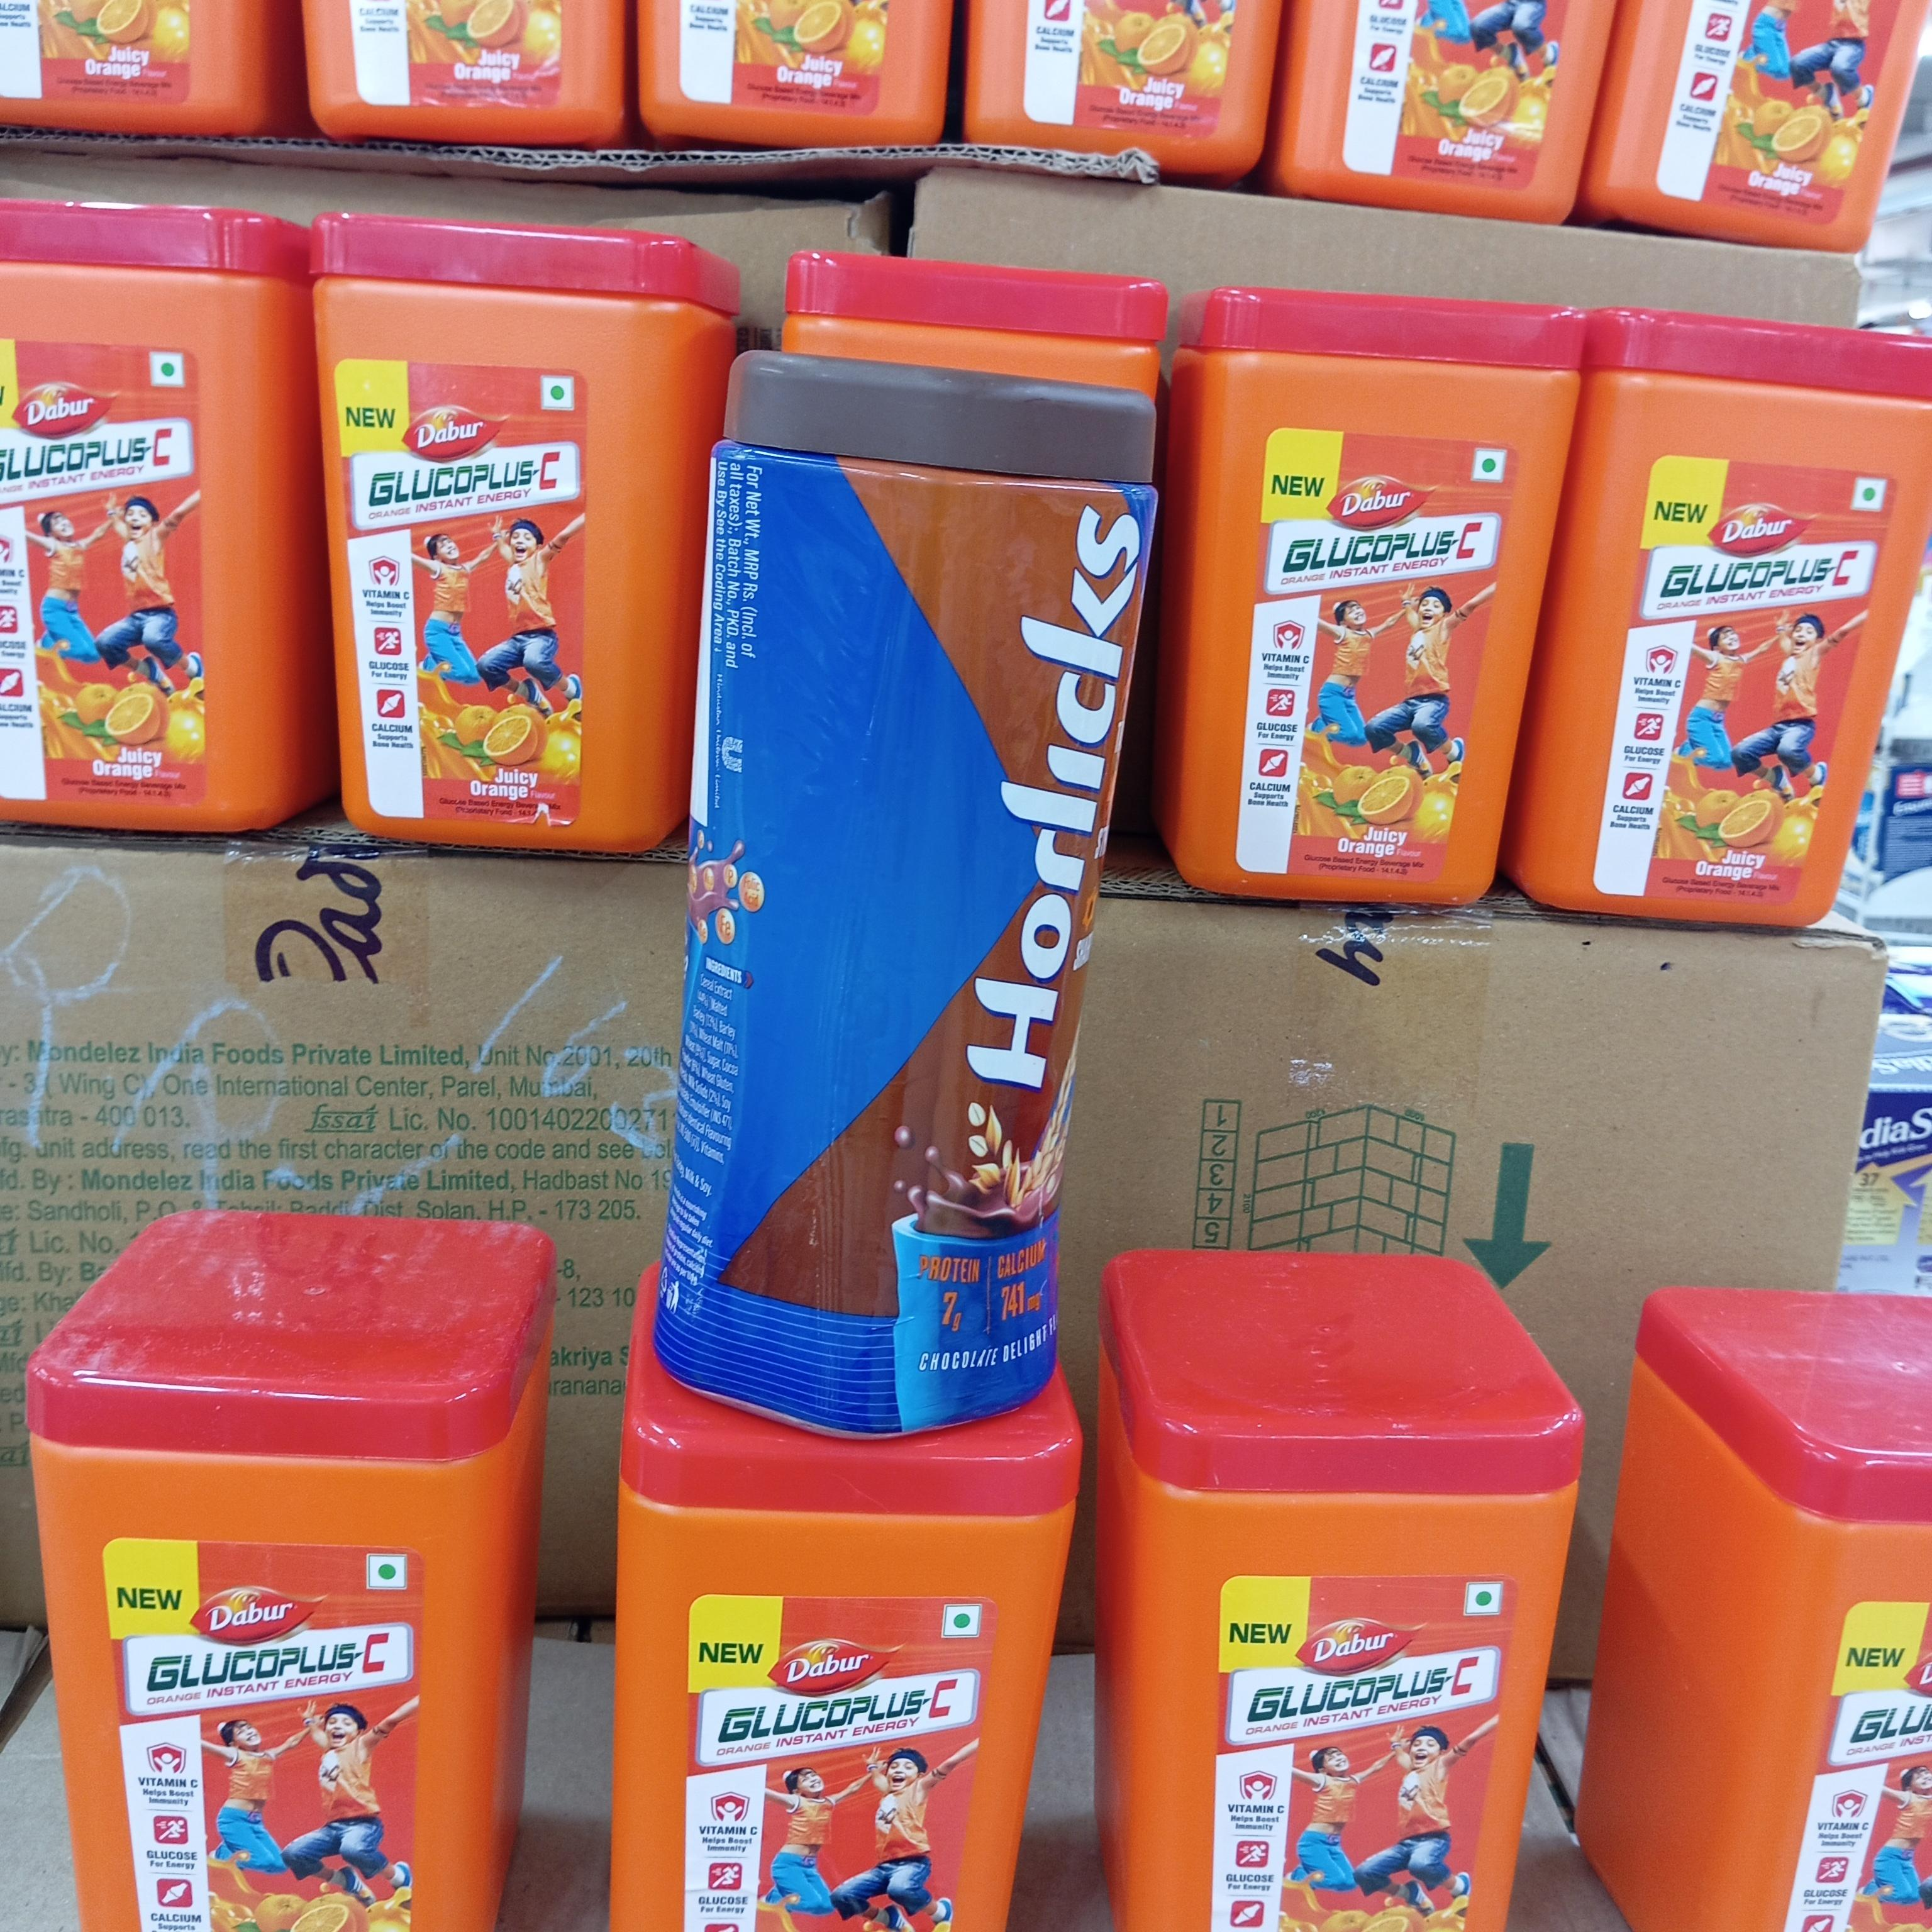HORLICK_CHOCOLATE_1_KG_JAR: (656, 361, 1161, 1437)
